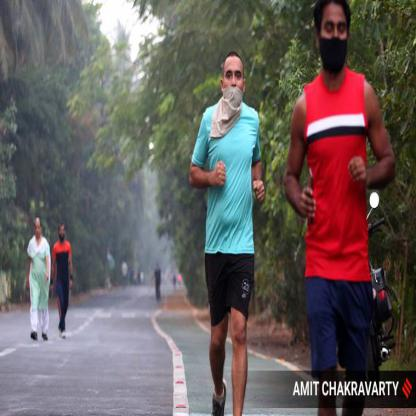Not_Wearing_Mask: (57, 217, 67, 244), (34, 220, 44, 246)
Wearing_Mask: (316, 6, 350, 85), (219, 60, 245, 126)
